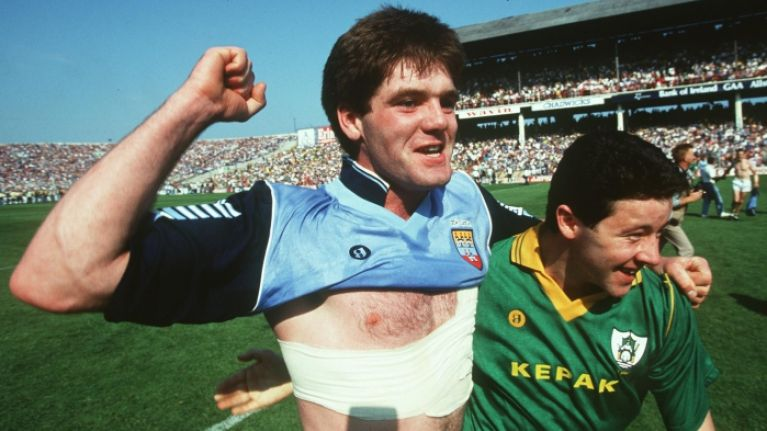player: (227, 6, 498, 401), (517, 98, 707, 406)
